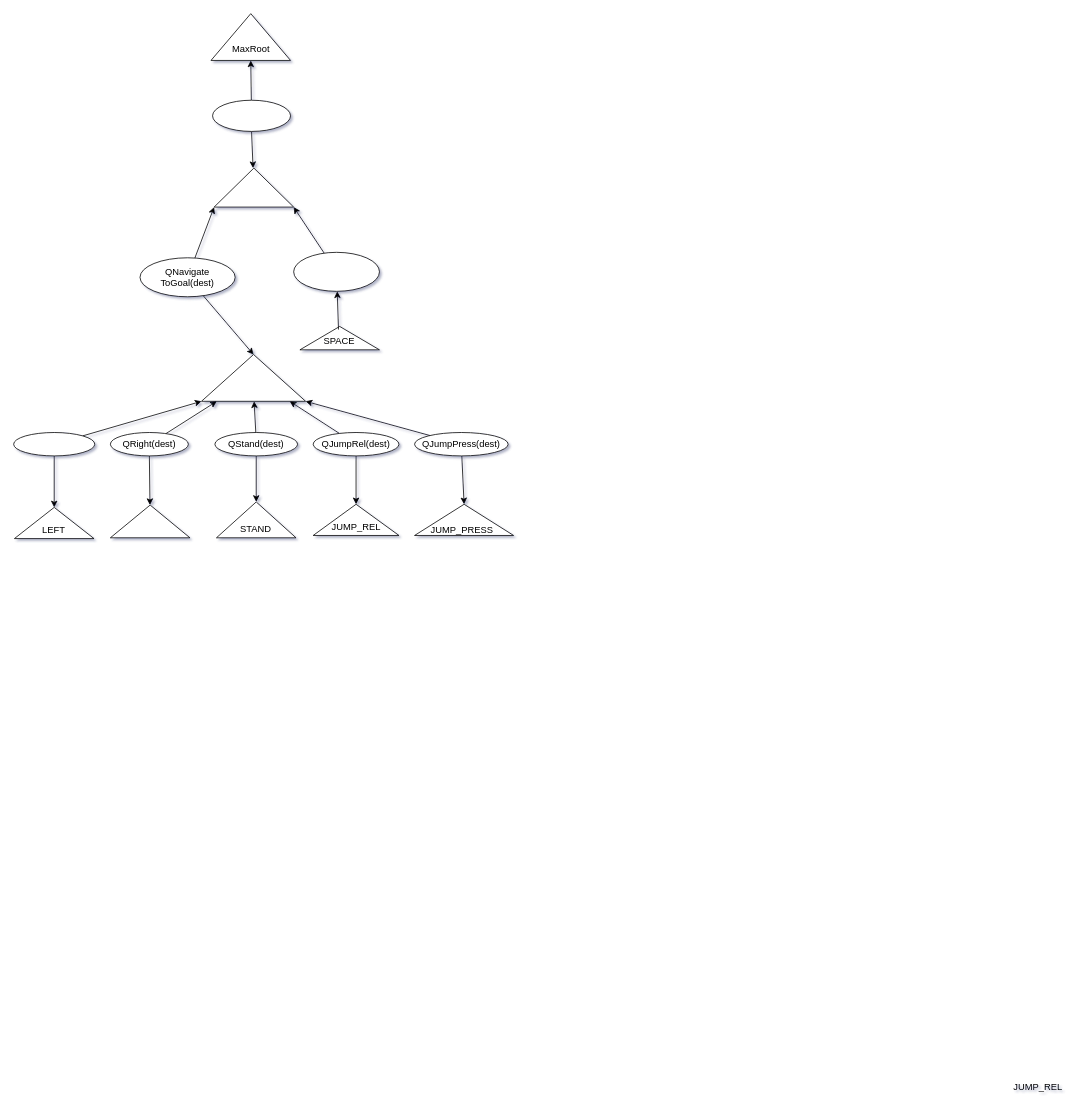
The diagram is 1081 pixels wide and 1117 high, and some of its shapes have lost their labels. The centre of each missing label's shape, as x and y in pixels:
Max Goal: point (253, 187)
QCompleteGame: point (336, 271)
QGoal: point (251, 115)
QLeft(dest): point (54, 444)
QMaxNav(dest): point (253, 377)
RIGHT: point (150, 521)
